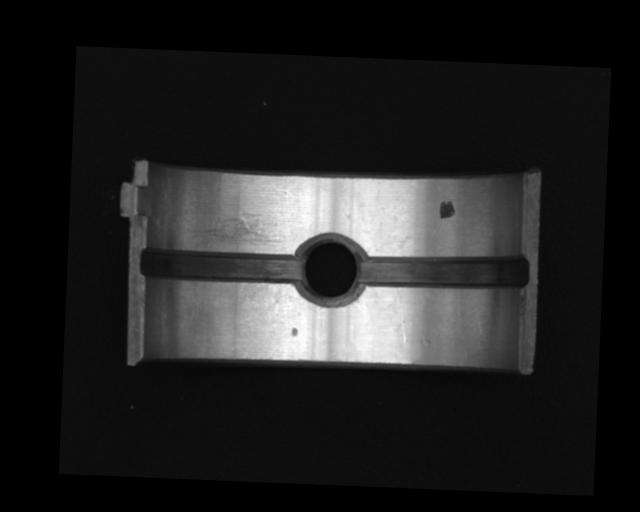blot: (438, 199, 455, 220)
bruise: (290, 326, 298, 338)
gap: (356, 250, 528, 292), (139, 247, 303, 285)
hole: (295, 232, 362, 307)
nick: (392, 286, 409, 342)
scratch: (186, 210, 288, 248)
